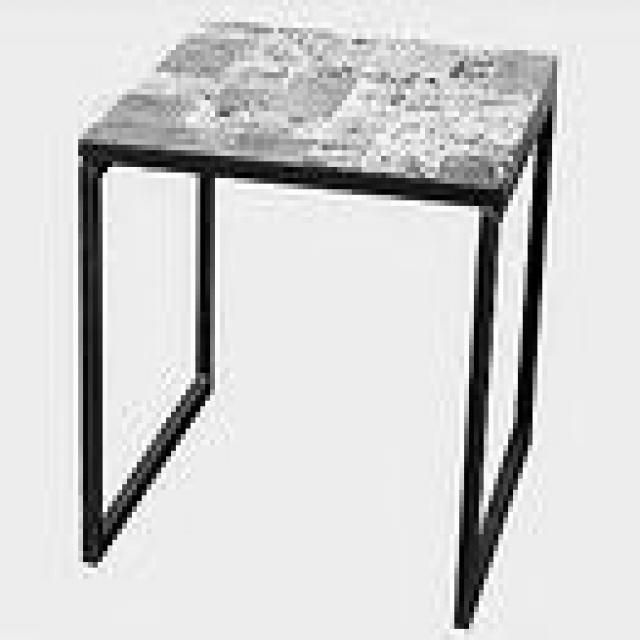table: (75, 17, 561, 631)
